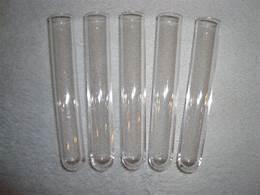Test tube: (33, 11, 237, 174)
